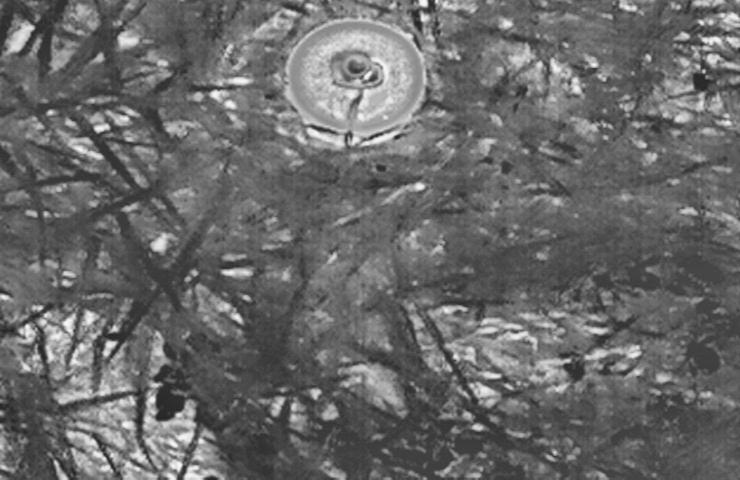landmines: (284, 14, 434, 155)
